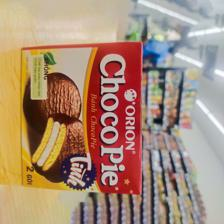Chocopie: (19, 41, 144, 195)
